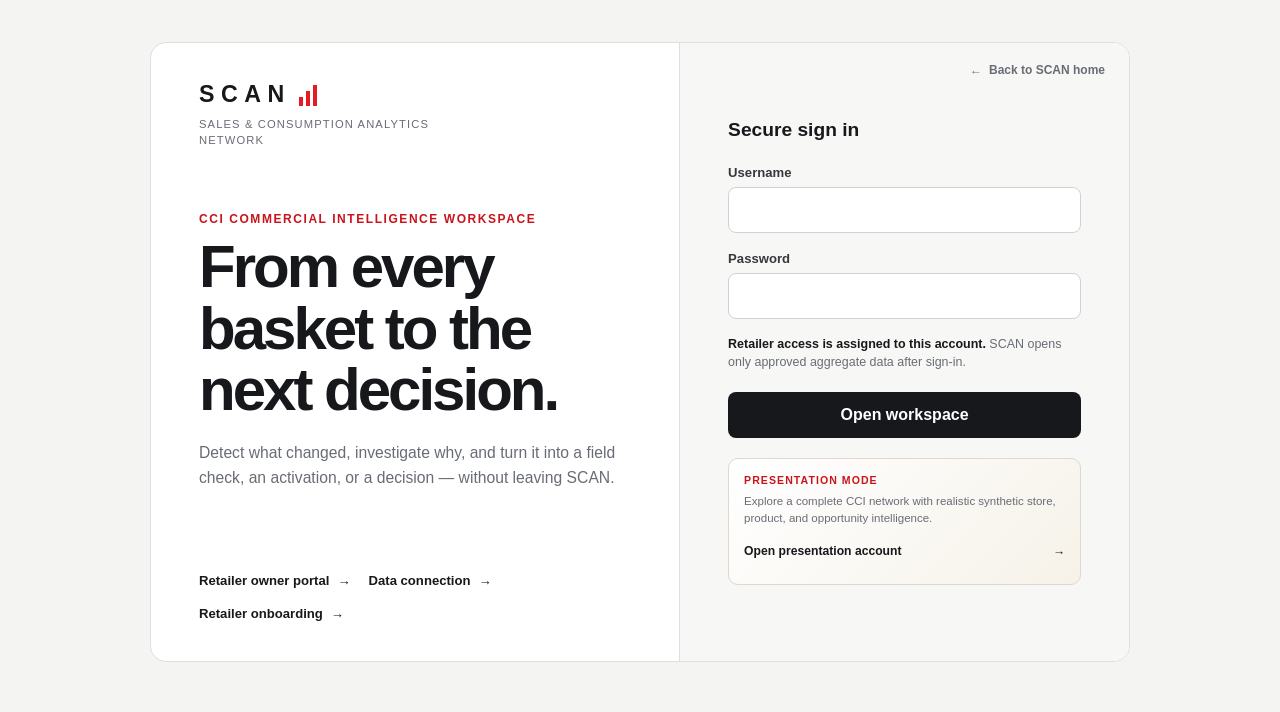
Test: CciDashboard › renders the real daily trend on Overview and switches metric
The image size is (1280, 712).
Type "scan-demo-cci" into the field labelled "Username" at (905,210), box [728,187,1081,233]
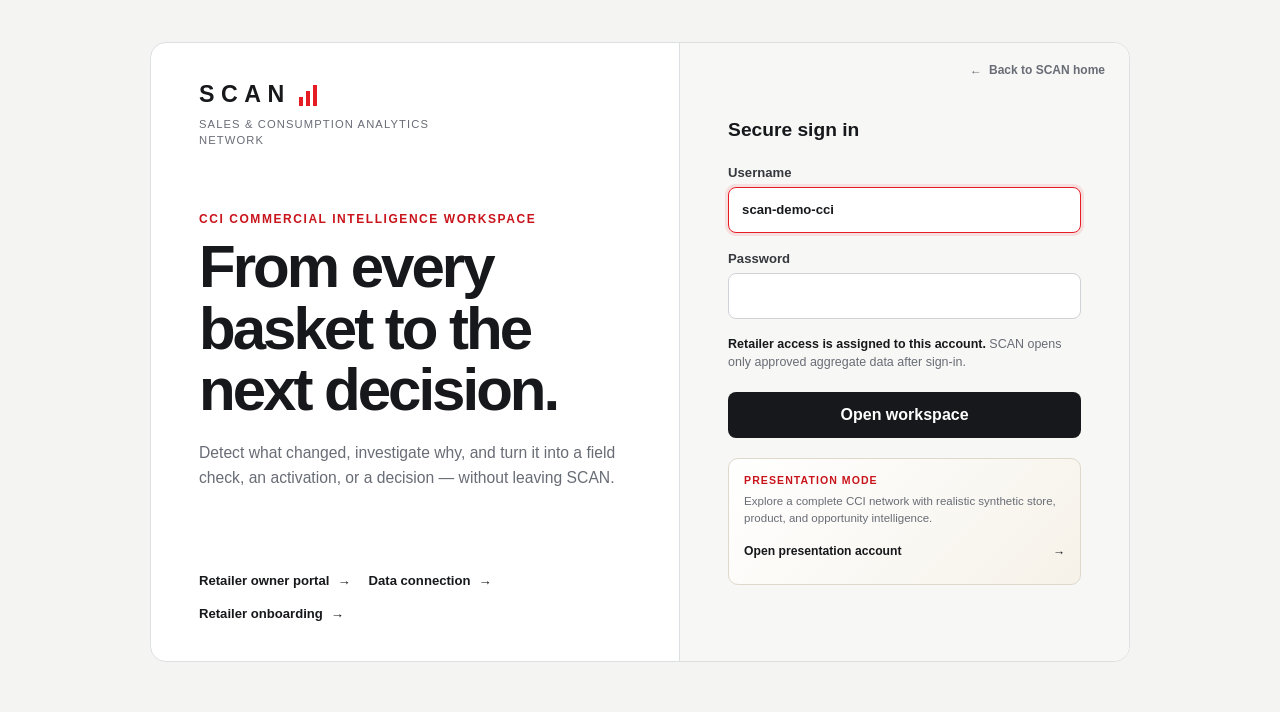
Type "demo-secret" into the password field labelled "Password" at (905,296), box [728,273,1081,319]
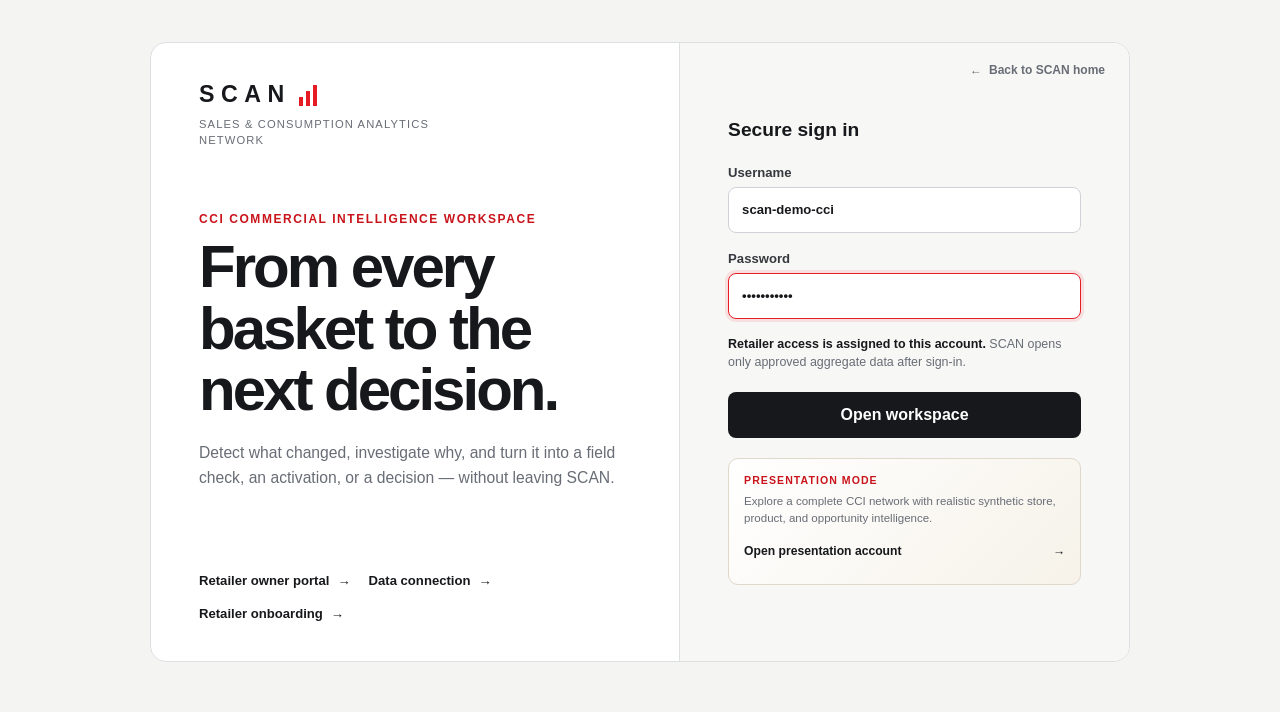
Click the button "Open workspace" at (905,415), box [728,392,1081,438]
(page scrolled)
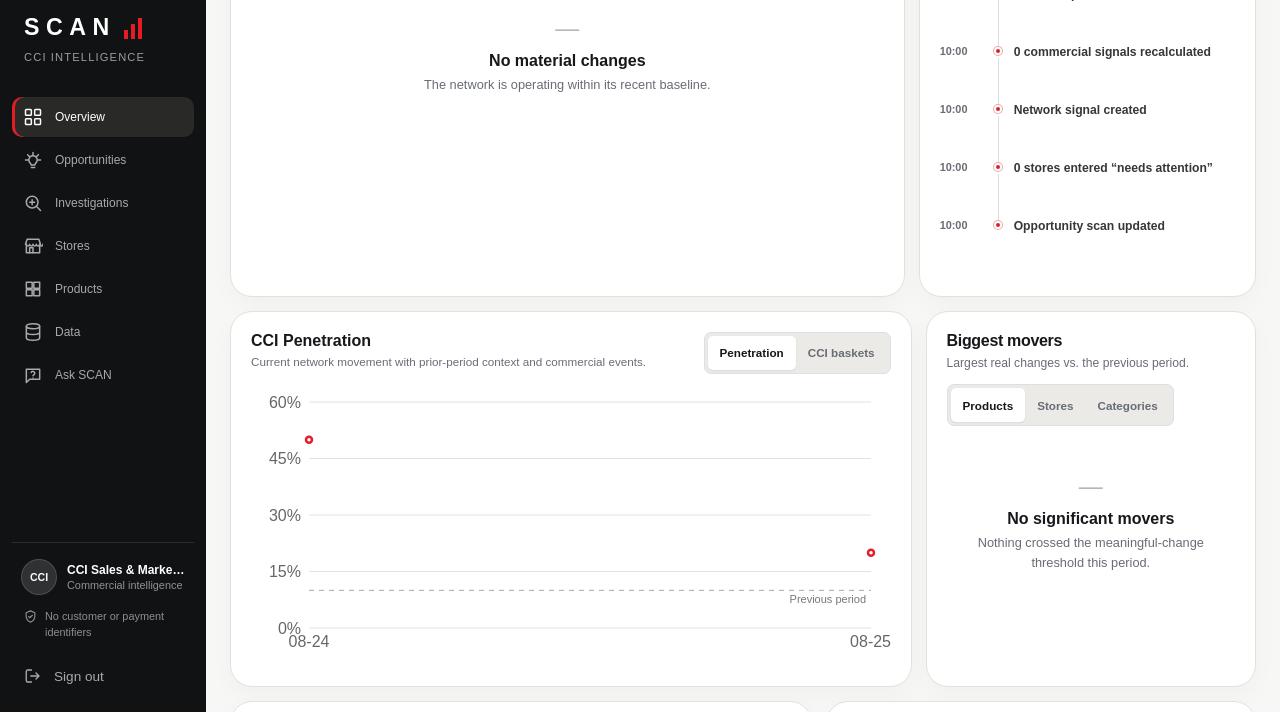
Result: the picture named "CCI penetration trend" is shown at [251,392,890,666]
Click the button "CCI baskets" at (841,353), box [796,336,886,370]
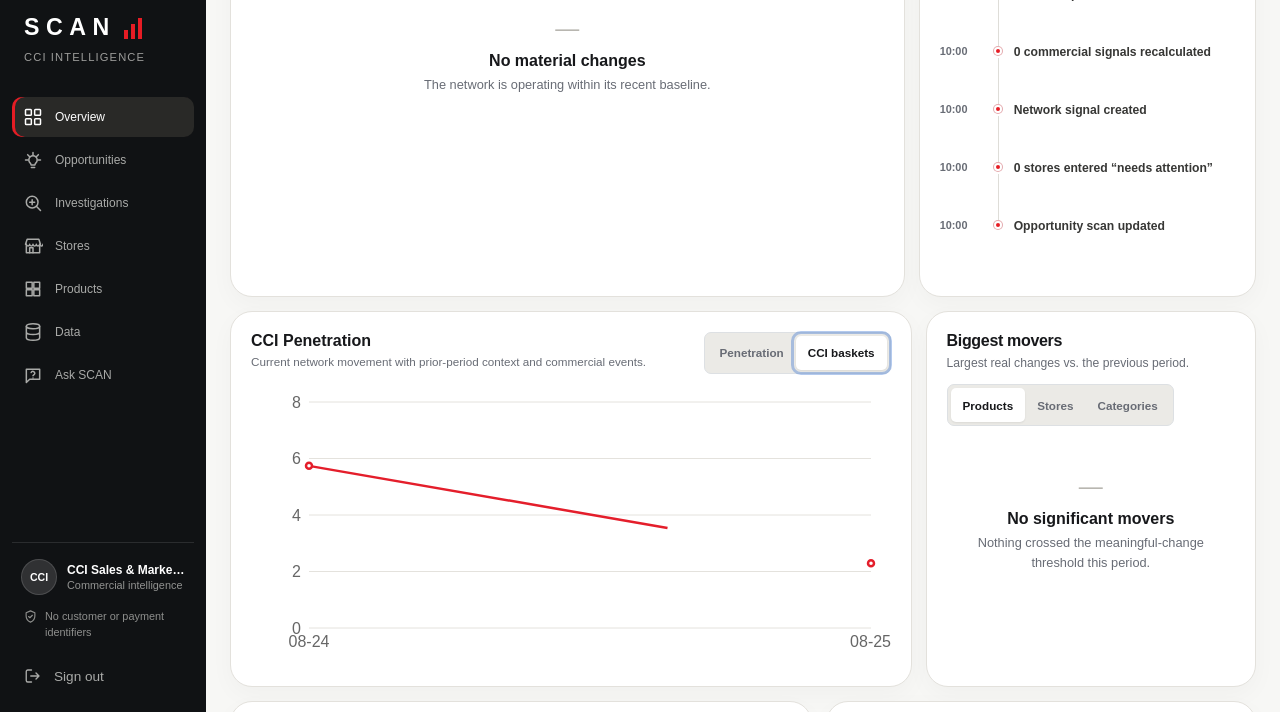
Result: the picture named "CCI baskets trend" is shown at [251,392,890,666]
